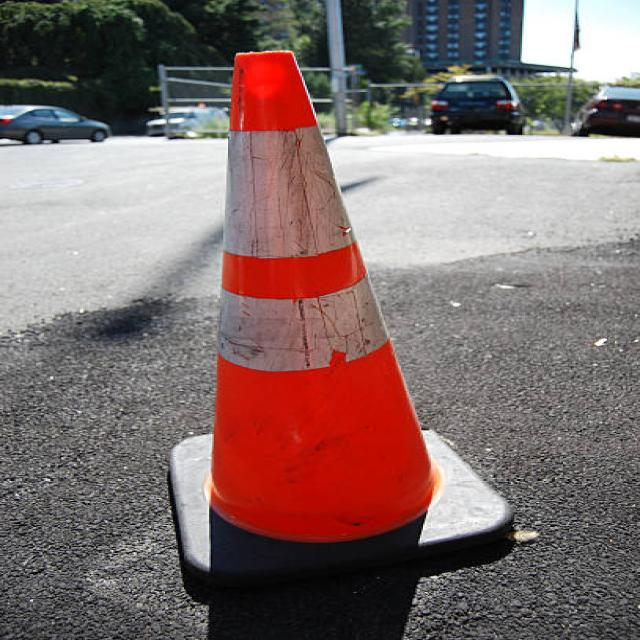Traffic Cone: (79, 31, 571, 610)
